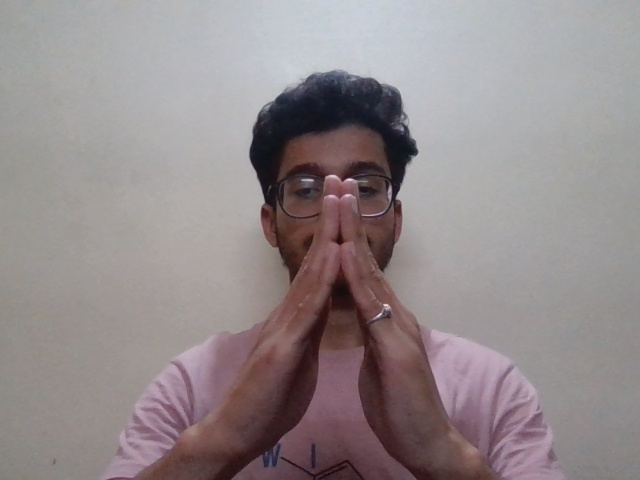home: (224, 172, 479, 462)
